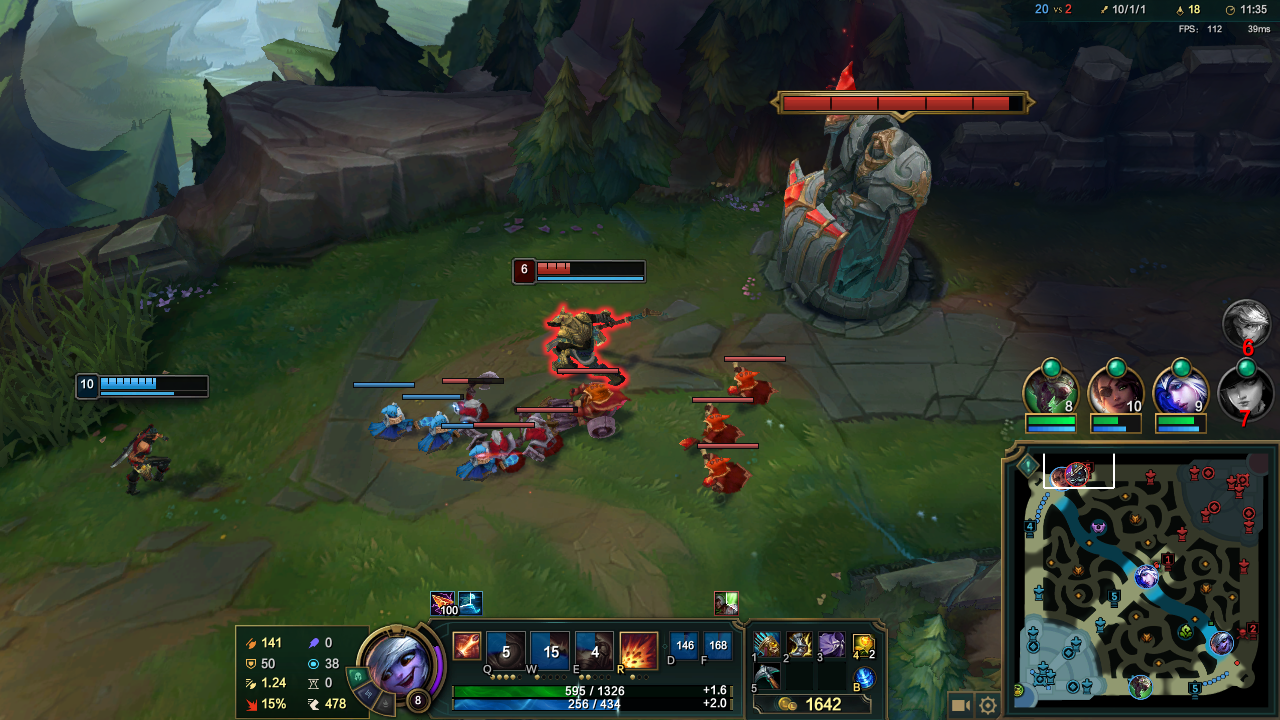DFFYT: (764, 82, 964, 330)
DFXB: (538, 374, 637, 445), (689, 449, 760, 499), (518, 416, 578, 473), (450, 388, 507, 437), (484, 431, 539, 481), (681, 406, 748, 446), (724, 365, 778, 407)
DFYX: (537, 264, 627, 282)
WFXB: (368, 396, 422, 445), (411, 409, 465, 457), (452, 442, 503, 484)
Yita: (1186, 676, 1205, 697)
